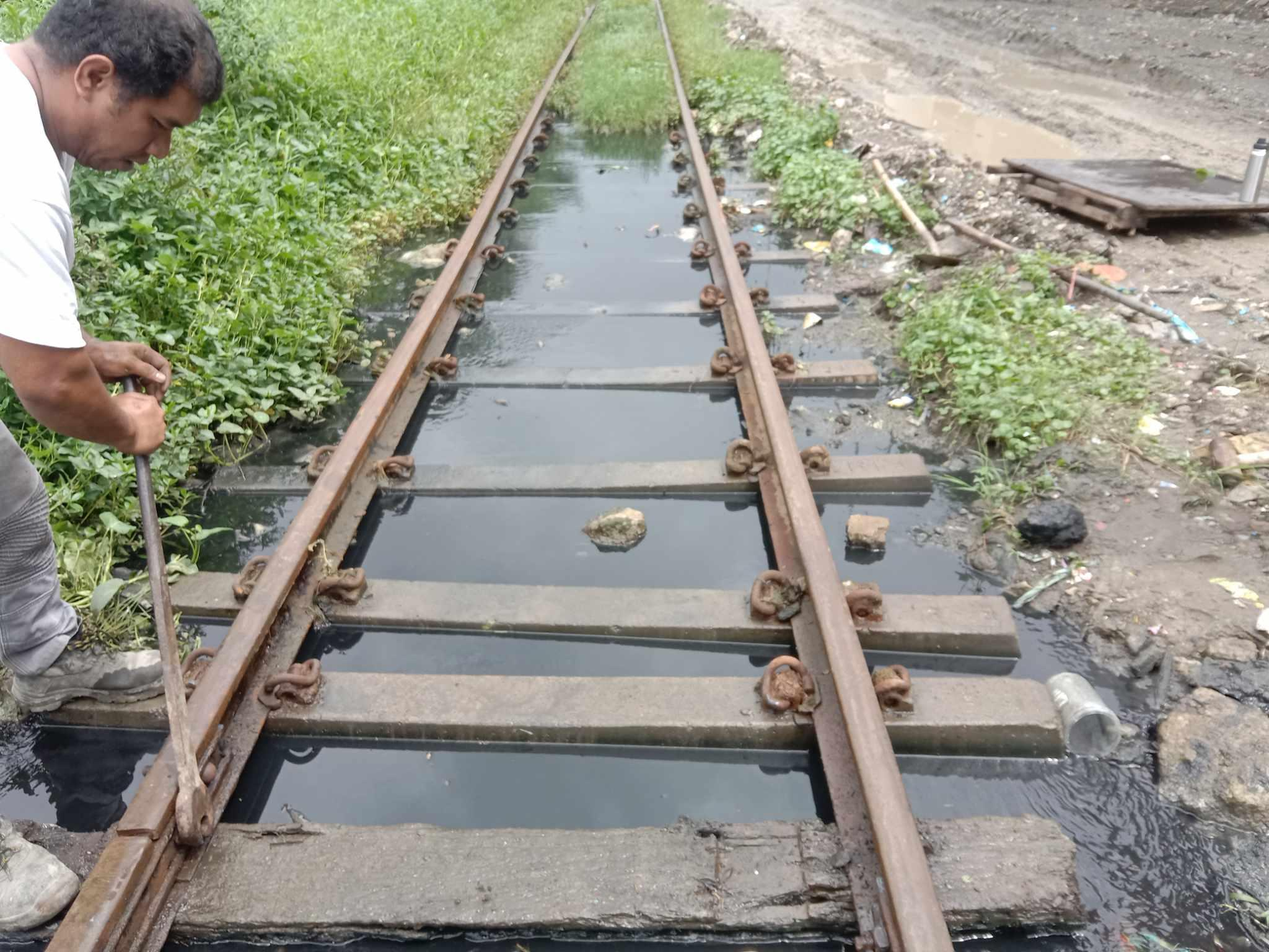railway-gap: (95, 790, 174, 876)
